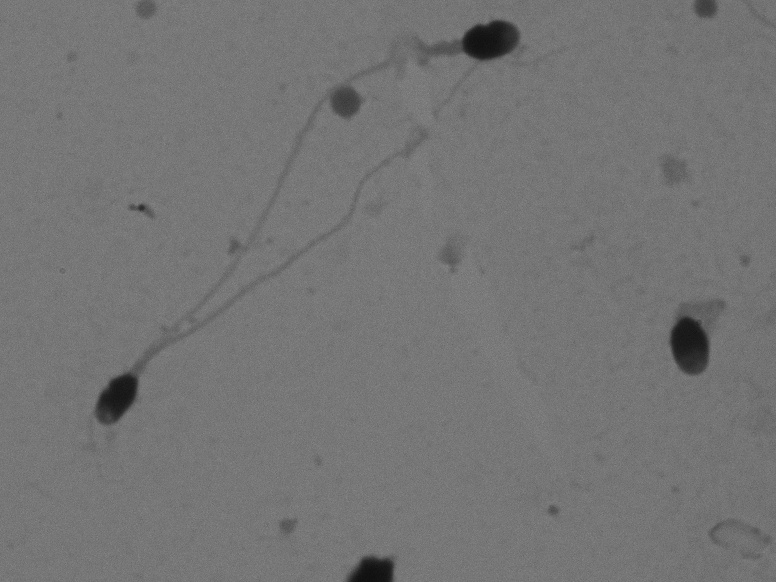Abnormal: (75, 63, 511, 478), (141, 14, 543, 327)
